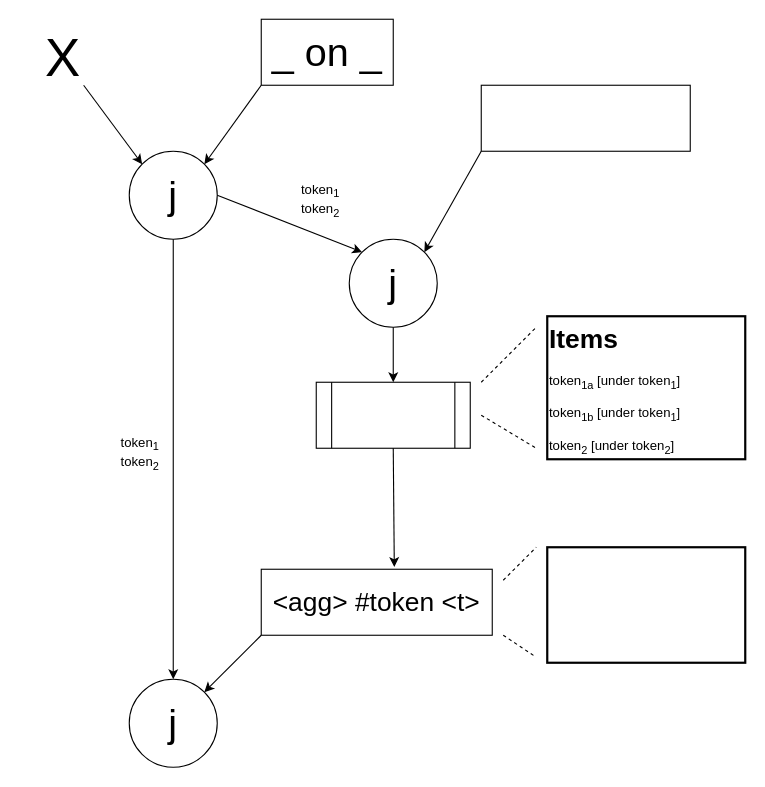
The diagram is 765 pixels wide and 787 high, and some of its shapes have lost their labels. The centre of each missing label's shape, as x and y in pixels:
"_ order _" belongs at [585,117].
"Aggregate Node" belongs at [392,414].
"Items (aggr. for token 1 ) #token token 1 (aggr. for token 2 ) #token token 2" belongs at [646,604].
